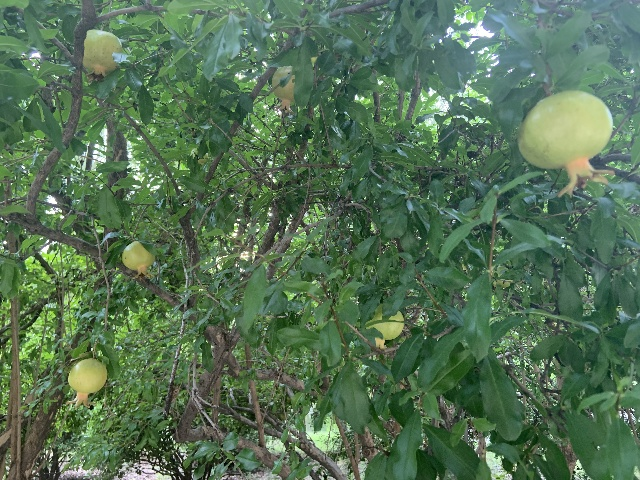mid-growth: (516, 89, 616, 199), (65, 358, 107, 410), (82, 29, 122, 81), (365, 303, 404, 349), (122, 240, 155, 280), (271, 66, 295, 114)
